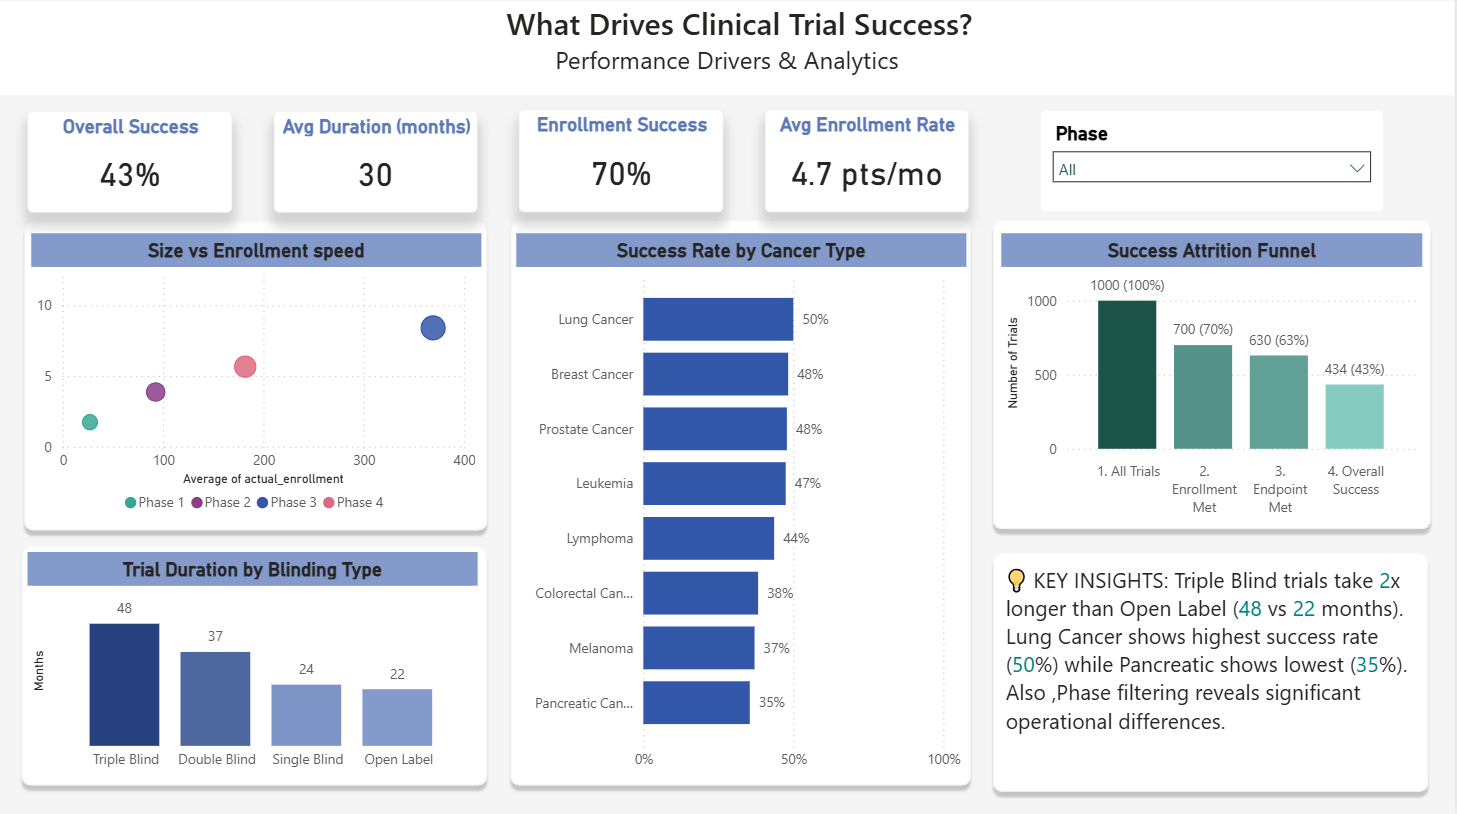

The dashboard page shown, as its layout file describes it:
{"tool":"powerbi","page":{"name":"Key insights","canvas":[1280,720],"ordinal":1},"visuals":[{"type":"shape","box":[14.3,190.2,421.1,285.9],"z":0},{"type":"textbox","box":[0,0,1279.1,86.4],"z":1000},{"type":"card","title":"Overall Success","fields":{"Values":["clinical_trials_processed.Overall success %"]},"box":[24.2,100.5,180.4,89.6],"z":2000},{"type":"card","title":"Avg Duration (months)","fields":{"Values":["Avg(clinical_trials_processed.duration_months)"]},"box":[240.9,100.5,179.2,89.6],"z":3000},{"type":"scatterChart","title":"Size vs Enrollment speed","fields":{"Series":["clinical_trials_processed.Phase"],"X":["Avg(clinical_trials_processed.actual_enrollment)"],"Y":["Avg(clinical_trials_processed.enrollment_rate)"],"Size":["Avg(clinical_trials_processed.duration_months)"]},"box":[27.5,207.8,395.8,255.1],"z":4000},{"type":"shape","box":[866.5,189.1,399.1,285.9],"z":5000},{"type":"clusteredColumnChart","title":"Success Attrition Funnel","fields":{"Y":["clinical_trials_processed.Funnel_Value"],"Category":["Funnel_Stages.Stage"]},"box":[880.8,207.8,370.6,256.2],"z":6000},{"type":"shape","box":[12.1,476.1,423.3,224.3],"z":7000},{"type":"shape","box":[442,189.1,418.9,511.3],"z":8000},{"type":"clusteredBarChart","title":"Success Rate by Cancer Type","fields":{"Category":["clinical_trials_processed.cancer_type"],"Y":["clinical_trials_processed.Cancer Success Rate"]},"box":[454.1,207.8,395.8,480.5],"z":9000},{"type":"clusteredColumnChart","title":"Trial Duration by Blinding Type","fields":{"Category":["clinical_trials_processed.blinding_type"],"Y":["Avg(clinical_trials_processed.duration_months)"]},"box":[24.2,488.2,395.8,200.1],"z":10000},{"type":"slicer","fields":{"Values":["clinical_trials_processed.Phase"]},"box":[914.8,99,302.4,90.2],"z":11000},{"type":"card","title":"Enrollment Success","fields":{"Values":["clinical_trials_processed.Enrollment Success Rate"]},"box":[456.3,99,180.3,90.2],"z":12000},{"type":"card","title":"Avg Enrollment Rate","fields":{"Values":["clinical_trials_processed.Avg Enrollment Rate label"]},"box":[672.9,99,179.2,90.2],"z":13000},{"type":"shape","box":[866.5,481.6,396.9,224.3],"z":14000},{"type":"textbox","box":[879.7,494.8,371.7,197.9],"z":15000}]}

Visuals, with their boxes in screenshot pixels (x1, y1, x2, y2), scaled from the page's 1280x720 canvas onto the 1457x814 screenshot:
shape: {"x1": 16, "y1": 215, "x2": 496, "y2": 538}
textbox: {"x1": 0, "y1": 0, "x2": 1456, "y2": 98}
"Overall Success" card: {"x1": 28, "y1": 114, "x2": 233, "y2": 215}
"Avg Duration (months)" card: {"x1": 274, "y1": 114, "x2": 478, "y2": 215}
"Size vs Enrollment speed" scatterChart: {"x1": 31, "y1": 235, "x2": 482, "y2": 523}
shape: {"x1": 986, "y1": 214, "x2": 1441, "y2": 537}
"Success Attrition Funnel" clusteredColumnChart: {"x1": 1003, "y1": 235, "x2": 1424, "y2": 525}
shape: {"x1": 14, "y1": 538, "x2": 496, "y2": 792}
shape: {"x1": 503, "y1": 214, "x2": 980, "y2": 792}
"Success Rate by Cancer Type" clusteredBarChart: {"x1": 517, "y1": 235, "x2": 967, "y2": 778}
"Trial Duration by Blinding Type" clusteredColumnChart: {"x1": 28, "y1": 552, "x2": 478, "y2": 778}
slicer - clinical_trials_processed.Phase: {"x1": 1041, "y1": 112, "x2": 1386, "y2": 214}
"Enrollment Success" card: {"x1": 519, "y1": 112, "x2": 725, "y2": 214}
"Avg Enrollment Rate" card: {"x1": 766, "y1": 112, "x2": 970, "y2": 214}
shape: {"x1": 986, "y1": 544, "x2": 1438, "y2": 798}
textbox: {"x1": 1001, "y1": 559, "x2": 1424, "y2": 783}
